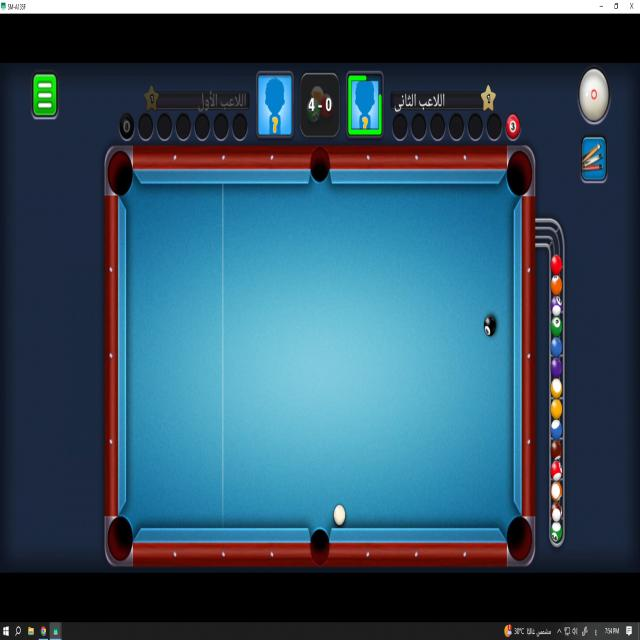object_ball: (484, 316, 495, 335)
white_cue_ball: (333, 504, 346, 526)
